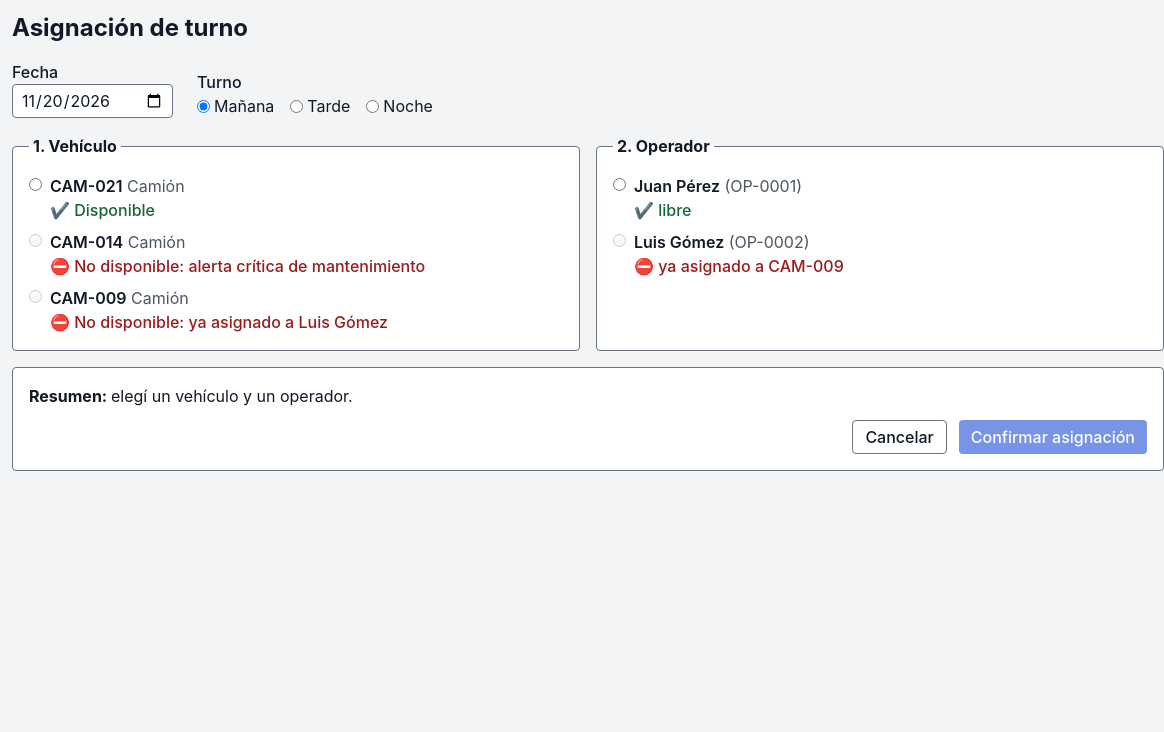
ShiftsPage › con 409 (lista vieja) muestra el motivo del servidor y refresca la lista
Click the radio button labelled "CAM-021 Camión✔ Disponible".
click(36, 184)  # box [29,178,42,191]
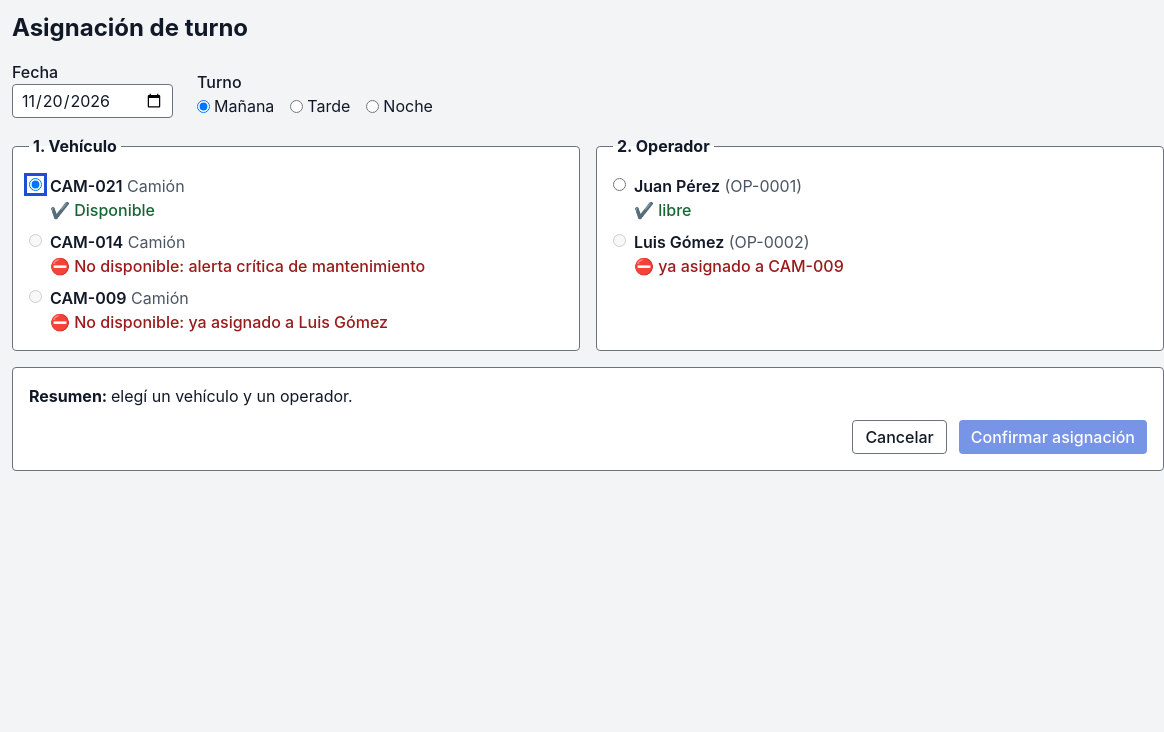
Click the radio button labelled "Juan Pérez (OP-0001)✔ libre".
click(620, 184)  # box [613,178,626,191]
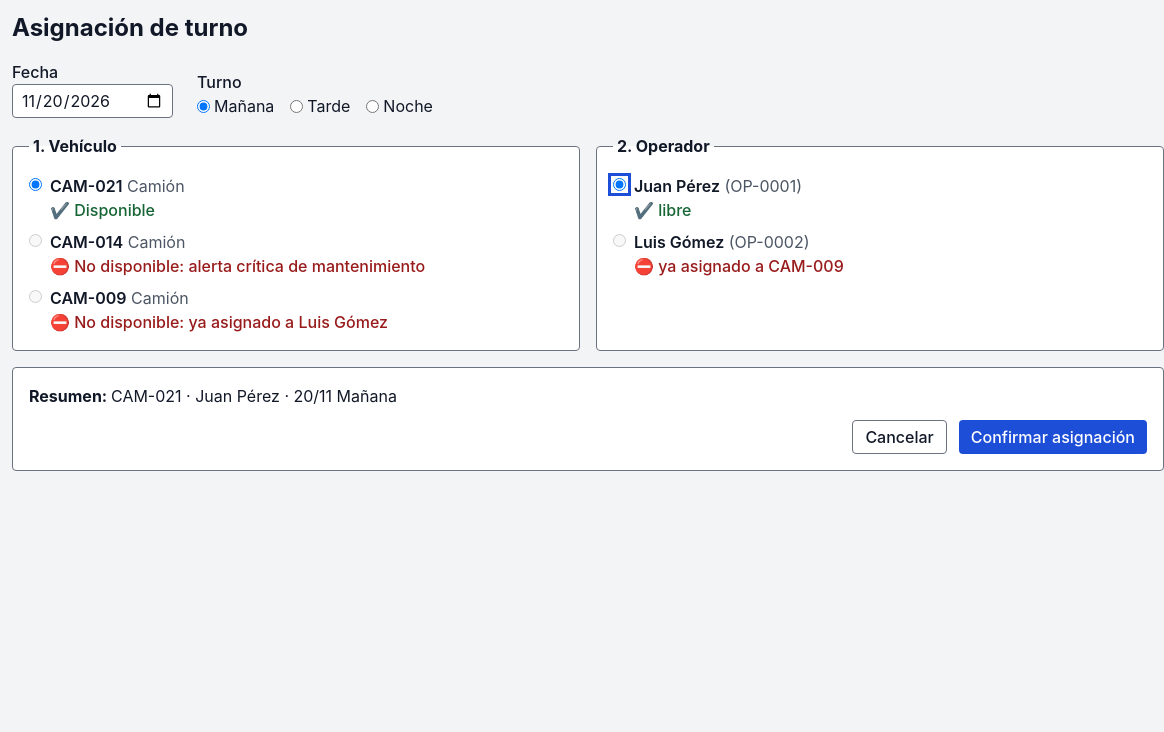
Click the button "Confirmar asignación".
click(1053, 437)  # box [959,420,1147,454]
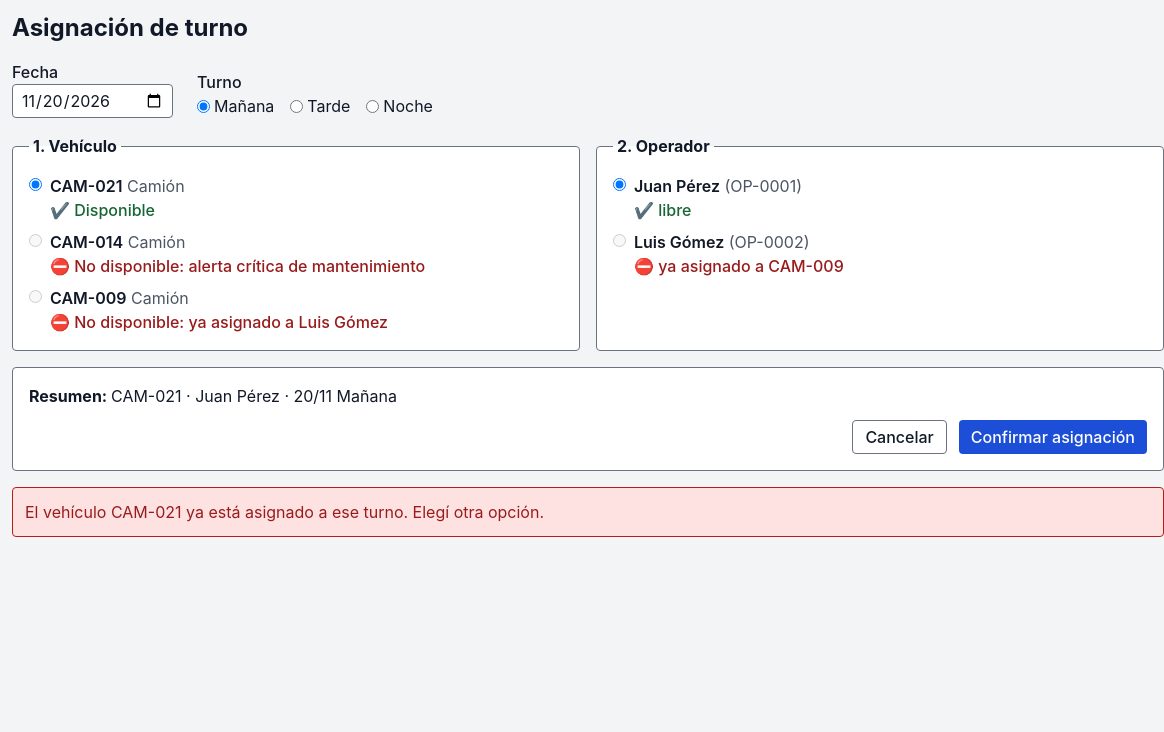
Now the message reads "El vehículo CAM-021 ya está asignado a ese turno. Elegí otra opción.", box [25,502,544,522]
